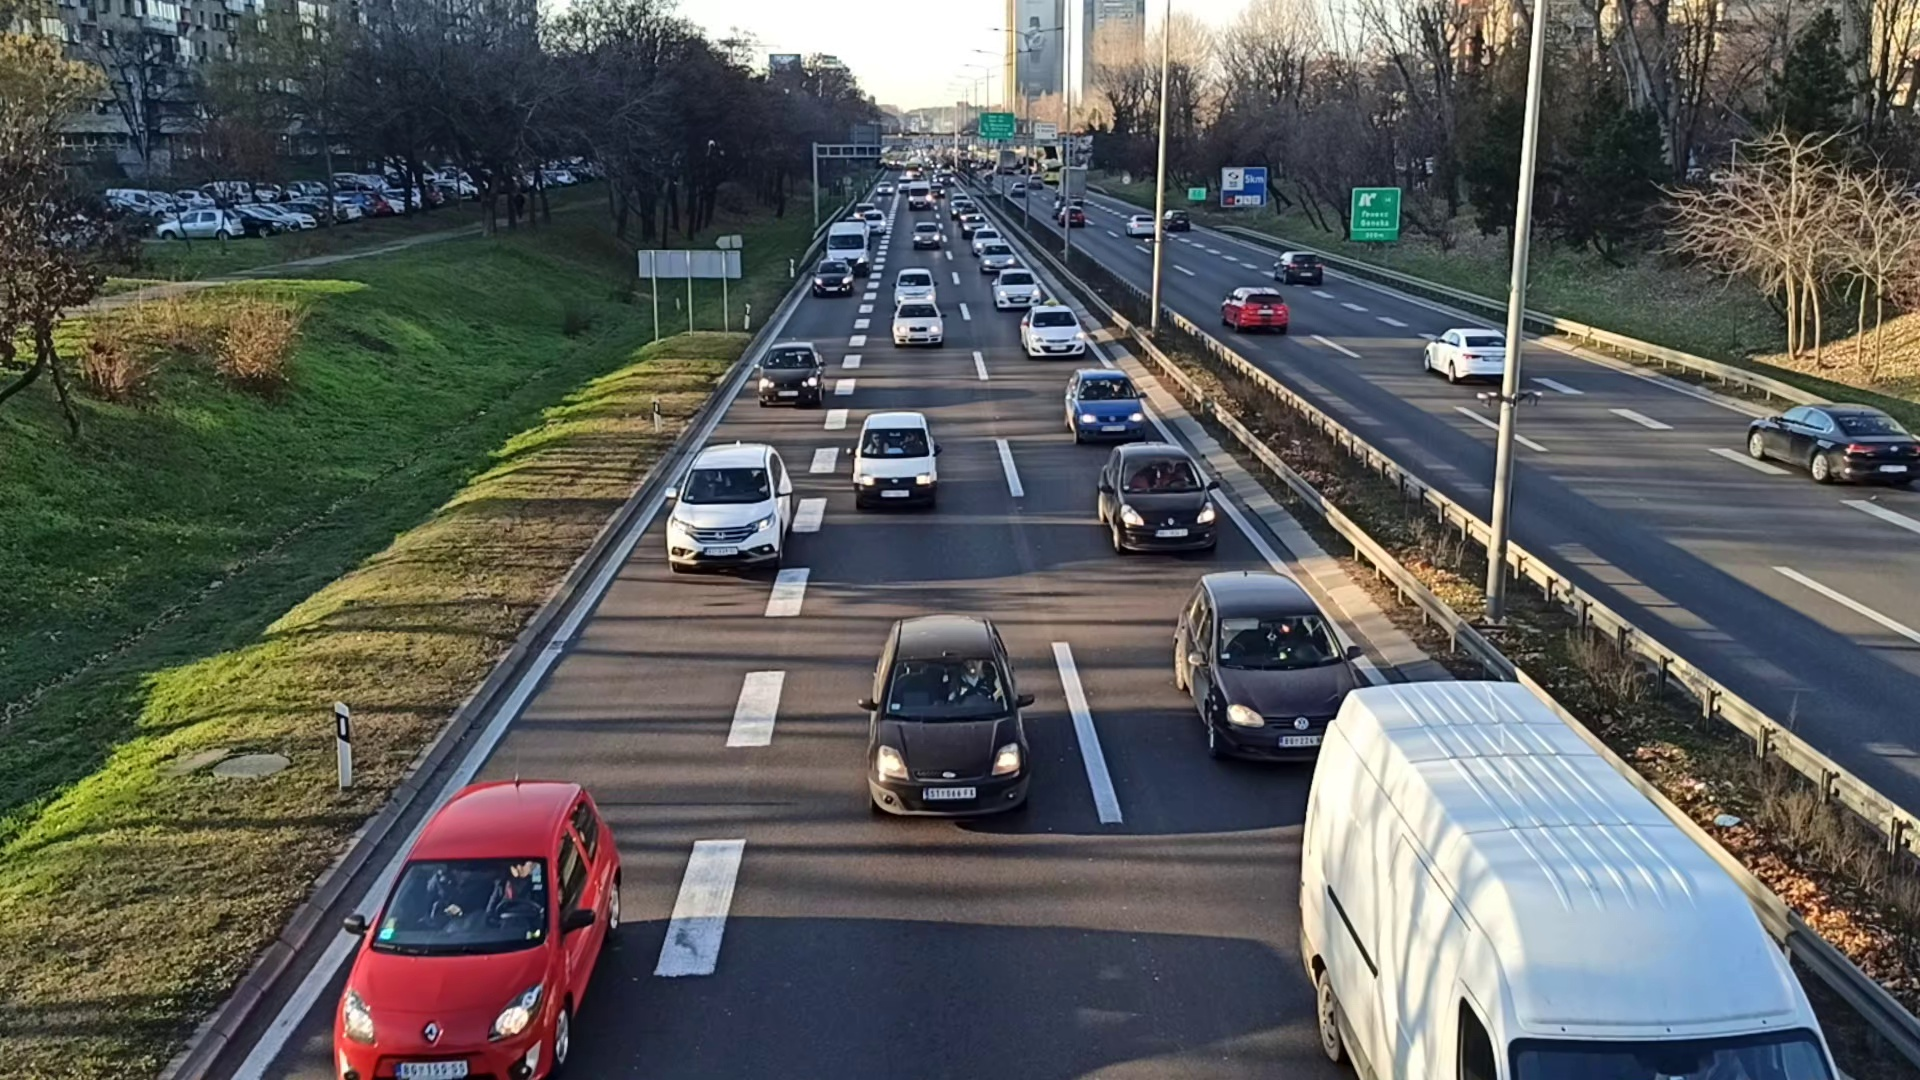car: (335, 785, 618, 1080), (1170, 571, 1358, 771), (866, 616, 1029, 819), (669, 444, 794, 571), (1749, 404, 1920, 487), (1098, 440, 1218, 556), (853, 414, 938, 504), (1067, 365, 1145, 444), (1423, 328, 1513, 377), (760, 345, 825, 406), (1022, 305, 1084, 359), (1222, 286, 1284, 332), (891, 301, 942, 345), (1273, 248, 1324, 287), (992, 269, 1036, 309), (814, 262, 853, 297), (976, 244, 1010, 270), (914, 224, 938, 247)
